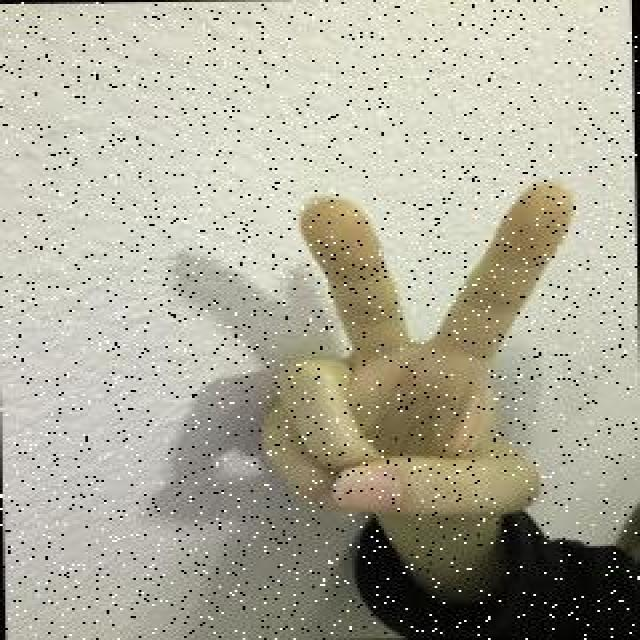V: (241, 173, 588, 529)
